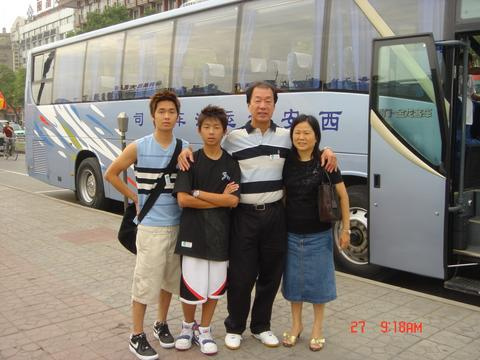person: (103, 89, 194, 360)
